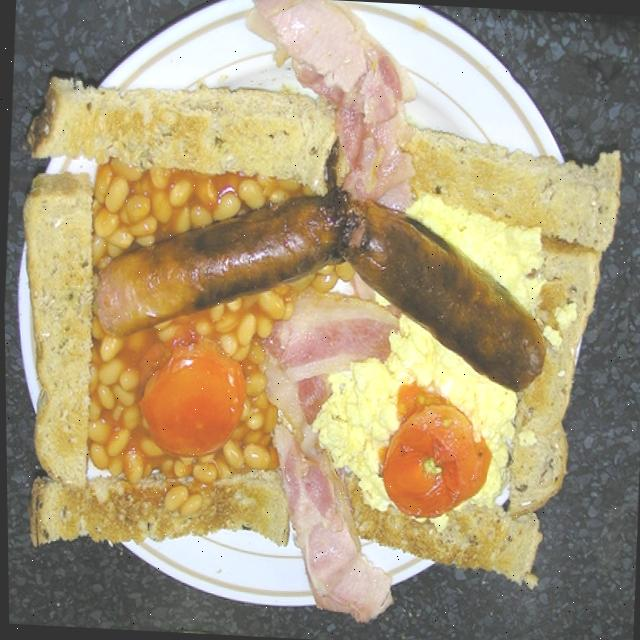鸡蛋料理: (11, 8, 625, 637)
